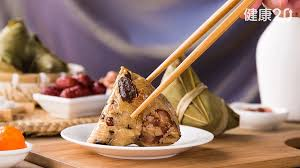zongzi: (87, 67, 180, 146), (162, 67, 238, 135)
